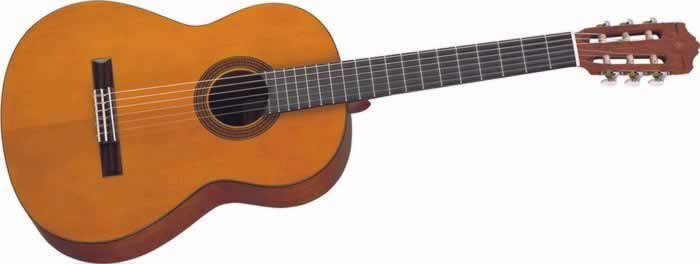guitar: (1, 1, 700, 264)
